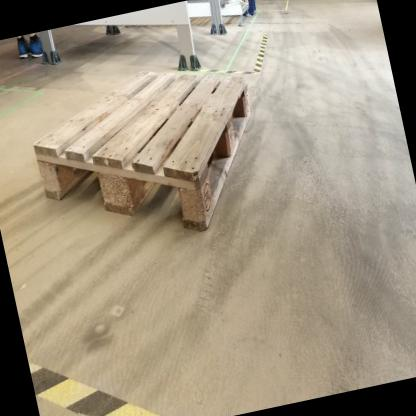BoxFace: (29, 66, 253, 237)
